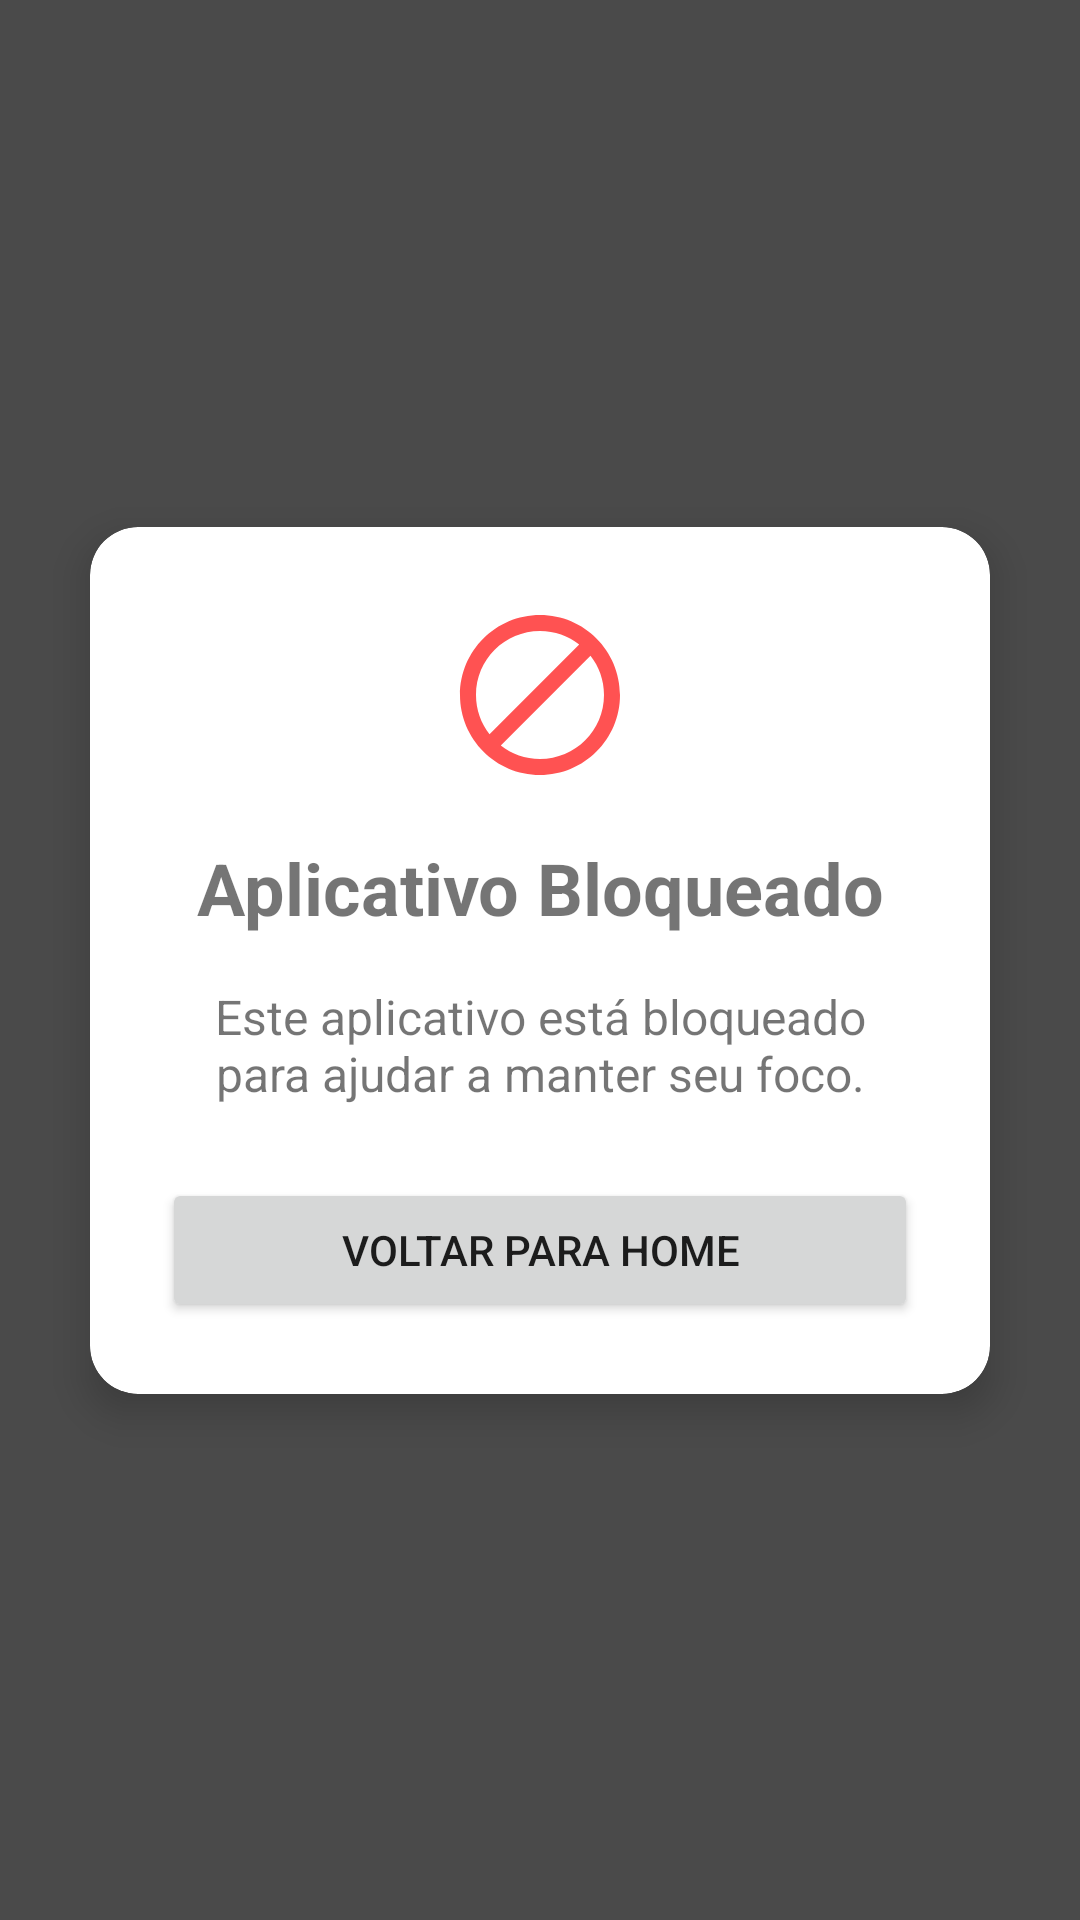

Icon bounding boxes for this 1080w x 1920h phone screenshot, format (x1, y1, x2, y2):
Blocked icon: (460, 615, 620, 775)
